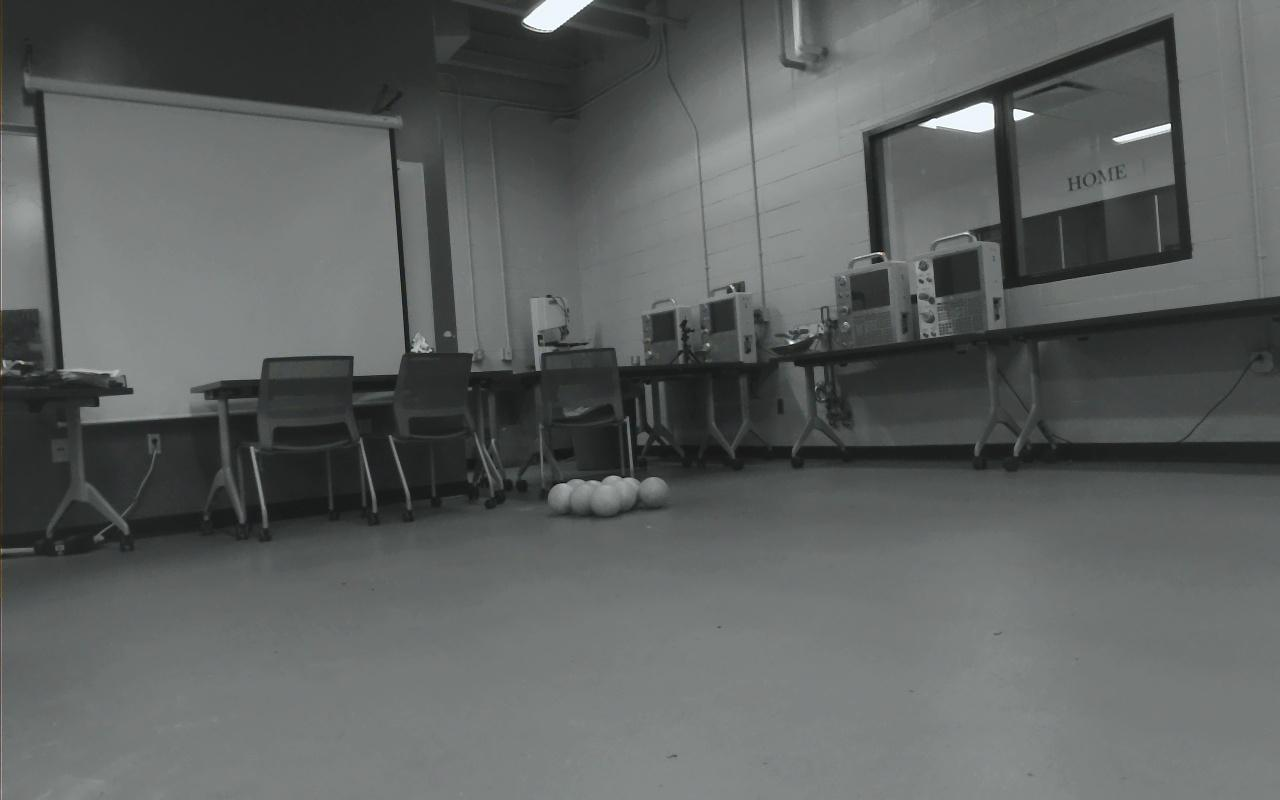Fuel: (590, 482, 623, 517), (567, 482, 599, 515), (607, 479, 637, 513), (639, 476, 669, 509), (548, 482, 577, 514), (620, 477, 643, 507), (599, 474, 626, 493), (584, 478, 607, 498), (566, 478, 589, 497)
